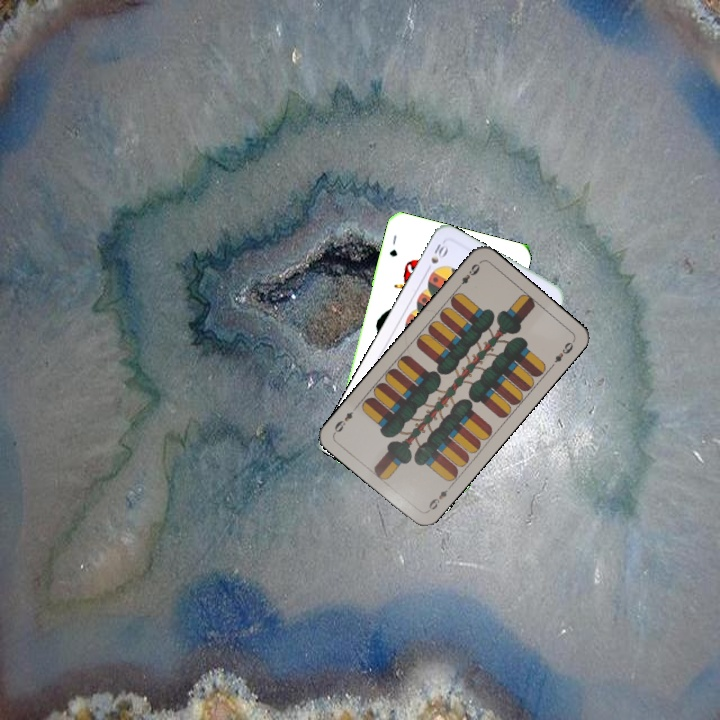E9: (453, 258, 484, 292), (423, 481, 454, 515)
GU: (385, 231, 400, 259)
S10: (422, 237, 451, 275)
